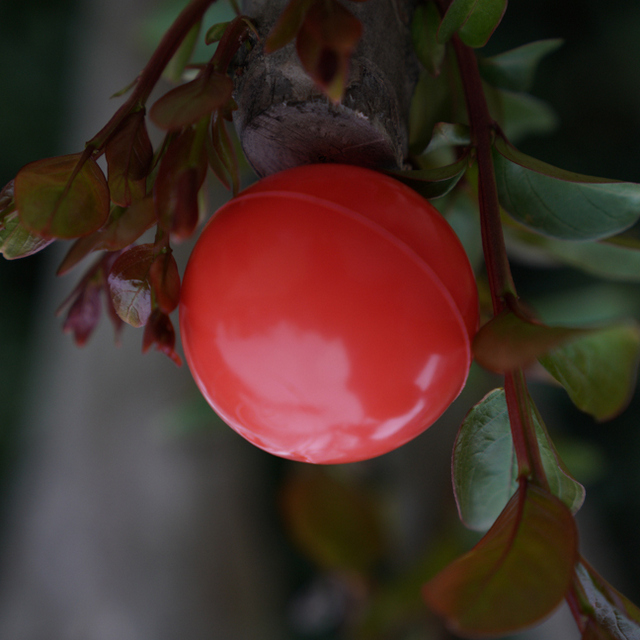Ball: (184, 165, 482, 460)
